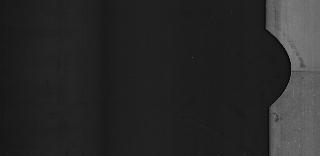welding line: (285, 66, 319, 78)
